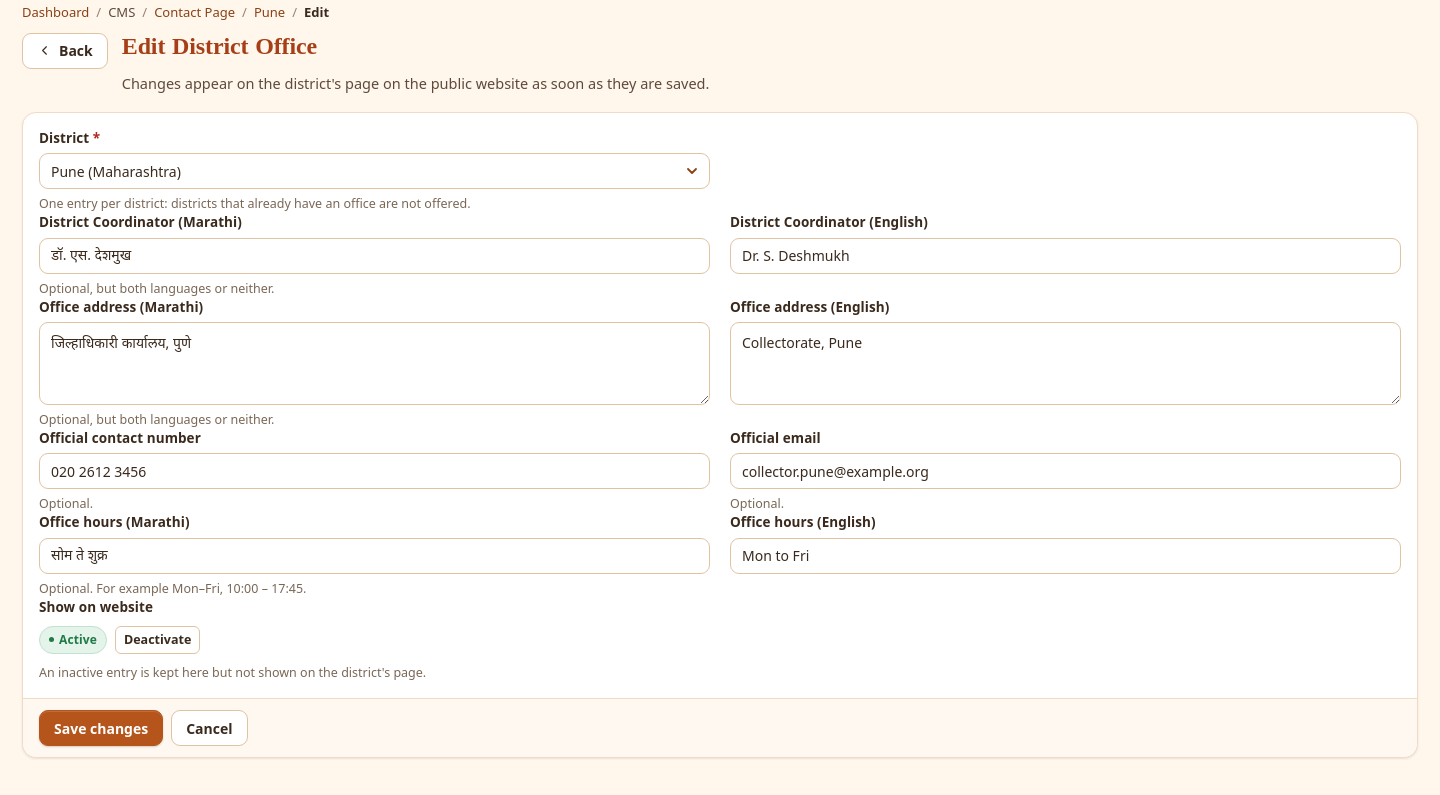
Test: district office pages › Edit district office › offers its own district beside the free ones, and saves the fields after confirmation
The width and height of the screenshot is (1440, 795).
Expected: the dropdown labelled "District *" shows "Pune (Maharashtra)", [39, 153, 710, 189]
Expected: the field labelled "District Coordinator (Marathi)" holds "डॉ. एस. देशमुख", [39, 238, 710, 274]
Replace the text in the field labelled "Official contact number" with "020 2612 9999" at x=374, y=471, box [39, 453, 710, 489]
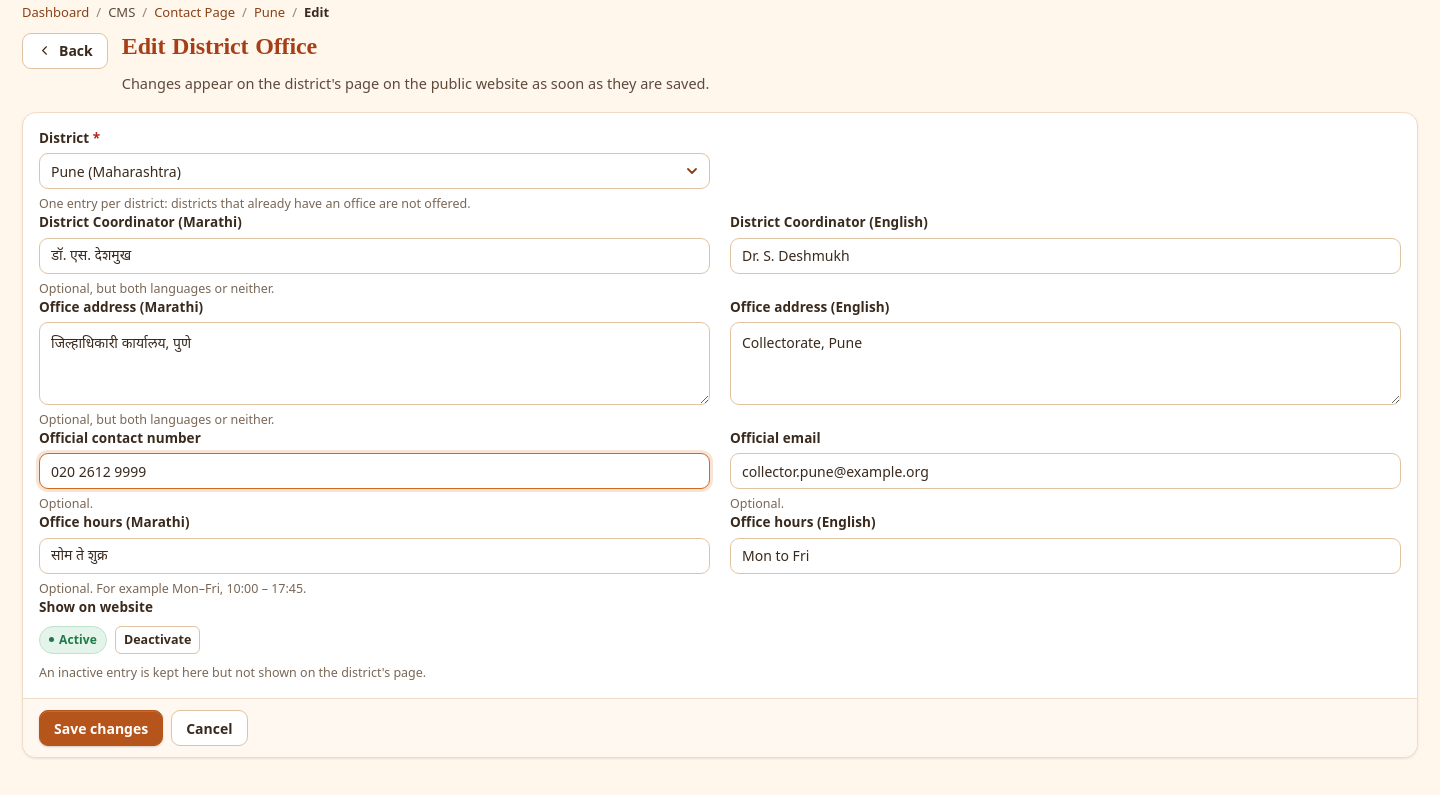
Click the button "Save changes" at x=101, y=728, box [39, 710, 163, 746]
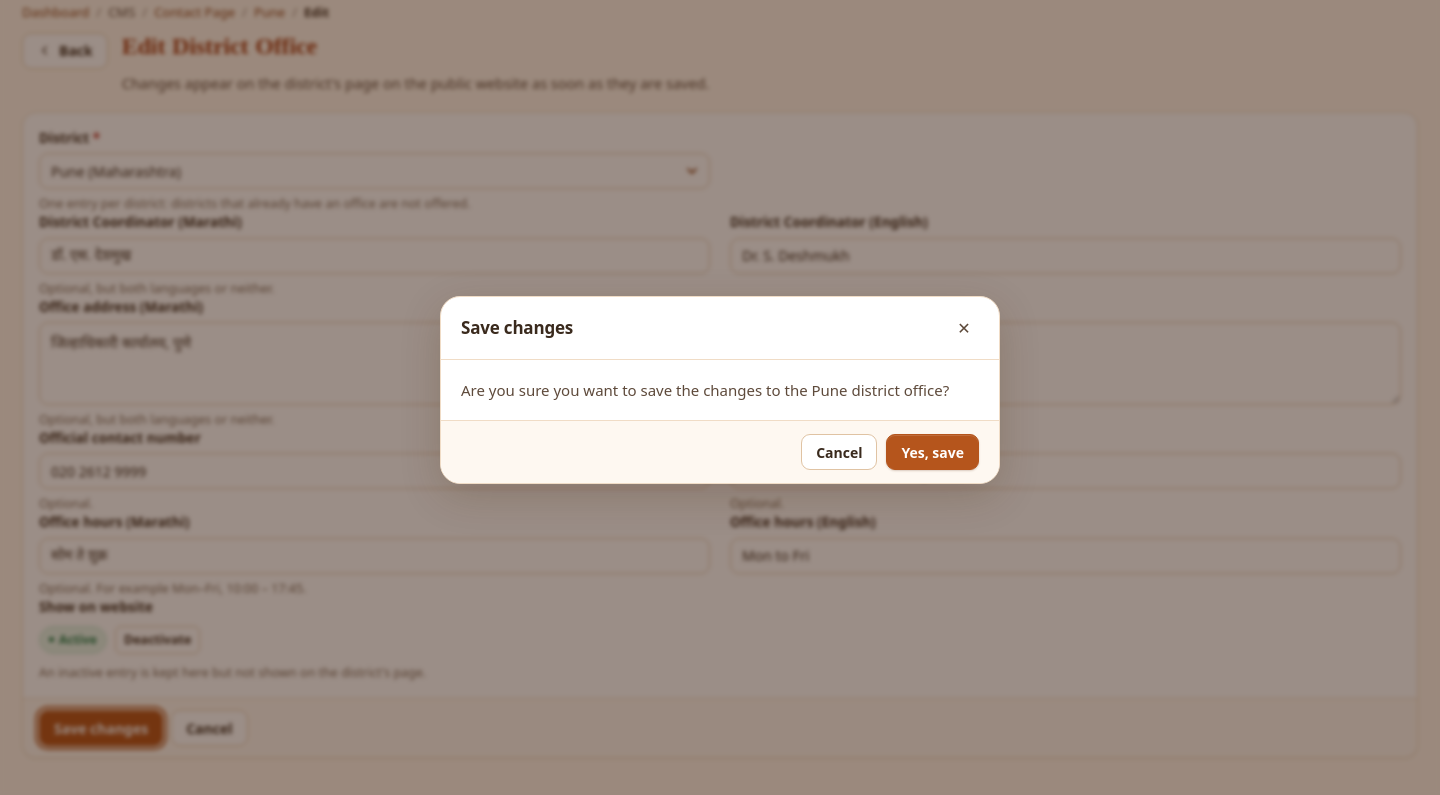
Expected: the dialog shows "Are you sure you want to save the changes to the Pune district office?", [461, 380, 949, 400]
Click the button "Yes, save" at x=933, y=452, box [886, 434, 979, 470]
(page scrolled)
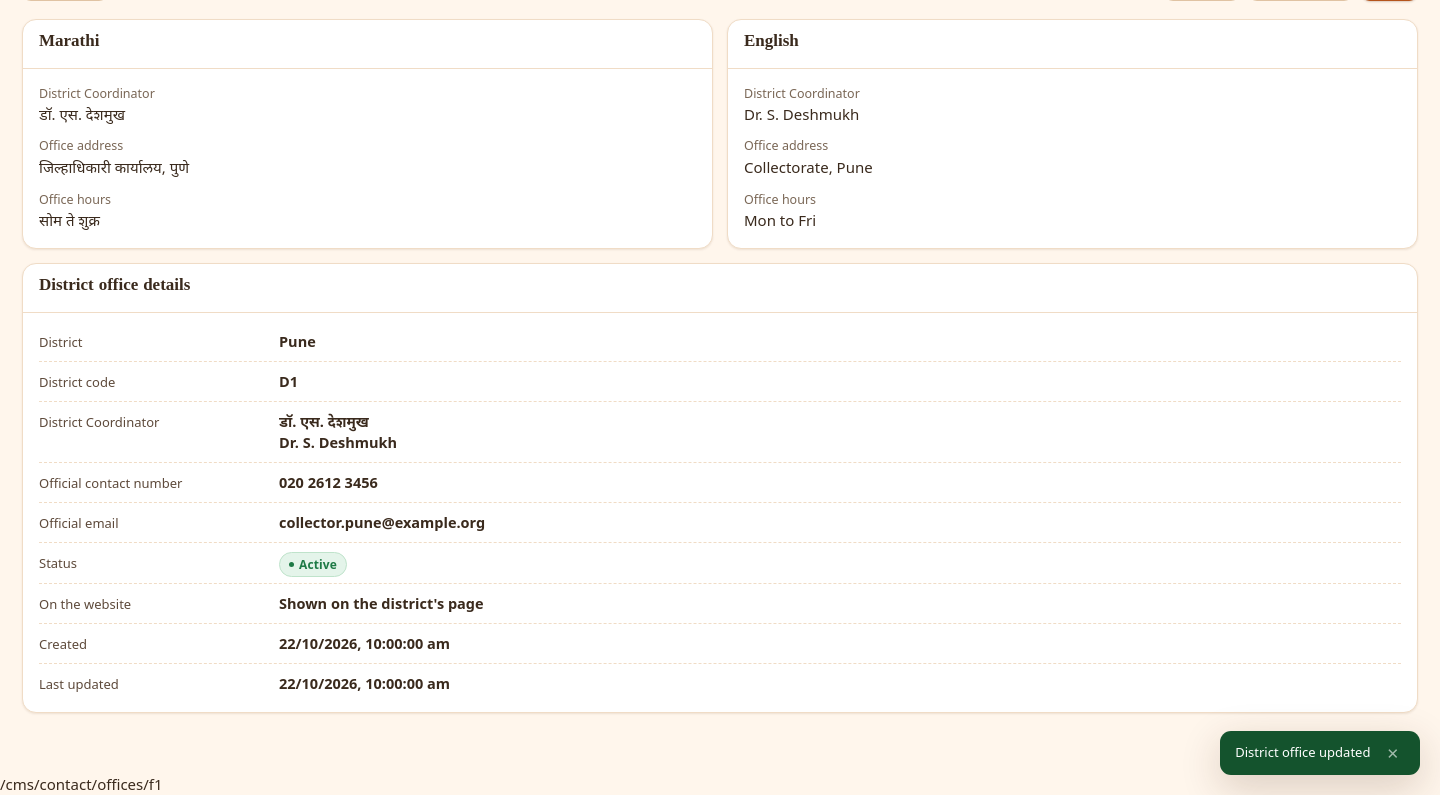
Expected: the element with id "toast-root" shows "District office updated", [1235, 743, 1370, 761]
Expected: the text with test id "location" reads "/cms/contact/offices/f1", [0, 774, 163, 794]
